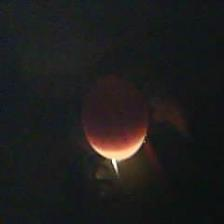fertile: (78, 71, 152, 161)
